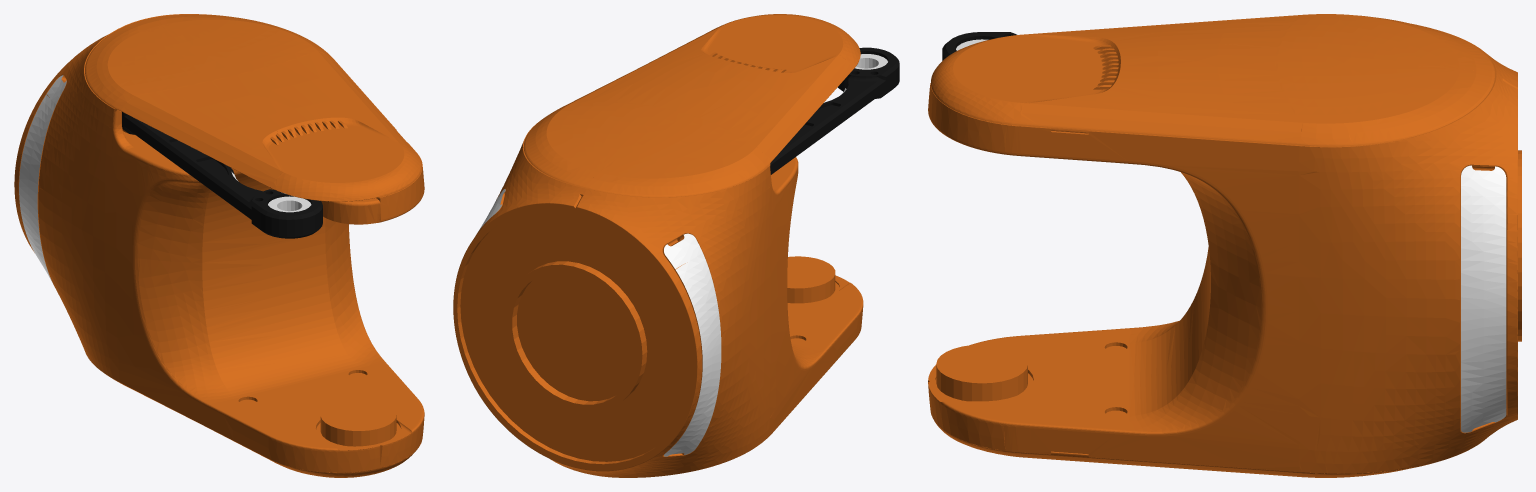
The picture shows the model from 3 angles, left to right: view 1: azimuth 30°, elevation 25°; view 2: azimuth 150°, elevation 25°; view 3: azimuth 270°, elevation 25°; orthographic projection. The views are drawn at different scales.
Parts seen in each view (by area): view 1: AR5-5_08L-W4C4A6-ZY2_link5; view 2: AR5-5_08L-W4C4A6-ZY2_link5; view 3: AR5-5_08L-W4C4A6-ZY2_link5.
Boxes of the visible parts, x1,y1,x2,y2 form: AR5-5_08L-W4C4A6-ZY2_link5: (14, 14, 424, 477); AR5-5_08L-W4C4A6-ZY2_link5: (453, 14, 899, 477); AR5-5_08L-W4C4A6-ZY2_link5: (928, 14, 1521, 477).
Size of the model in its own units: 0.0892 by 0.1067 by 0.1551.
